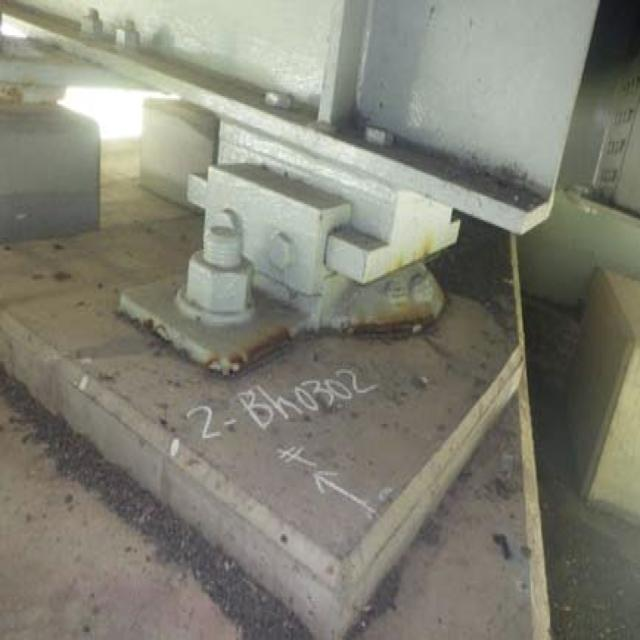corrosion: (126, 300, 464, 381)
